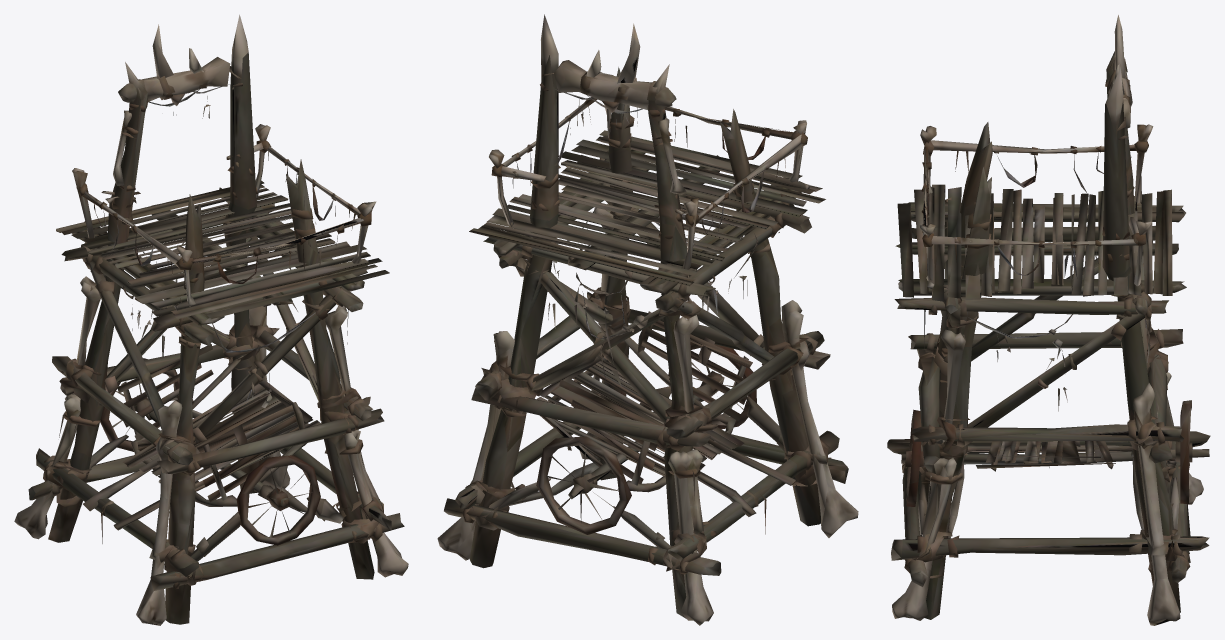
File: KolossTorre.glb
3 views of the same model, side by side, from view 1: azimuth 30°, elevation 25°; view 2: azimuth 150°, elevation 25°; view 3: azimuth 270°, elevation 25° (orthographic). The views are drawn at different scales.
Parts seen in each view (by area): view 1: KolossTorre; view 2: KolossTorre; view 3: KolossTorre.
Part boxes in pixels (x1,y1,x2,y2): KolossTorre: (14,14,408,625); KolossTorre: (437,14,858,625); KolossTorre: (887,15,1210,625).
Size of the model in its own units: 4.94 by 9 by 4.87.
1 material, 1 textured.
